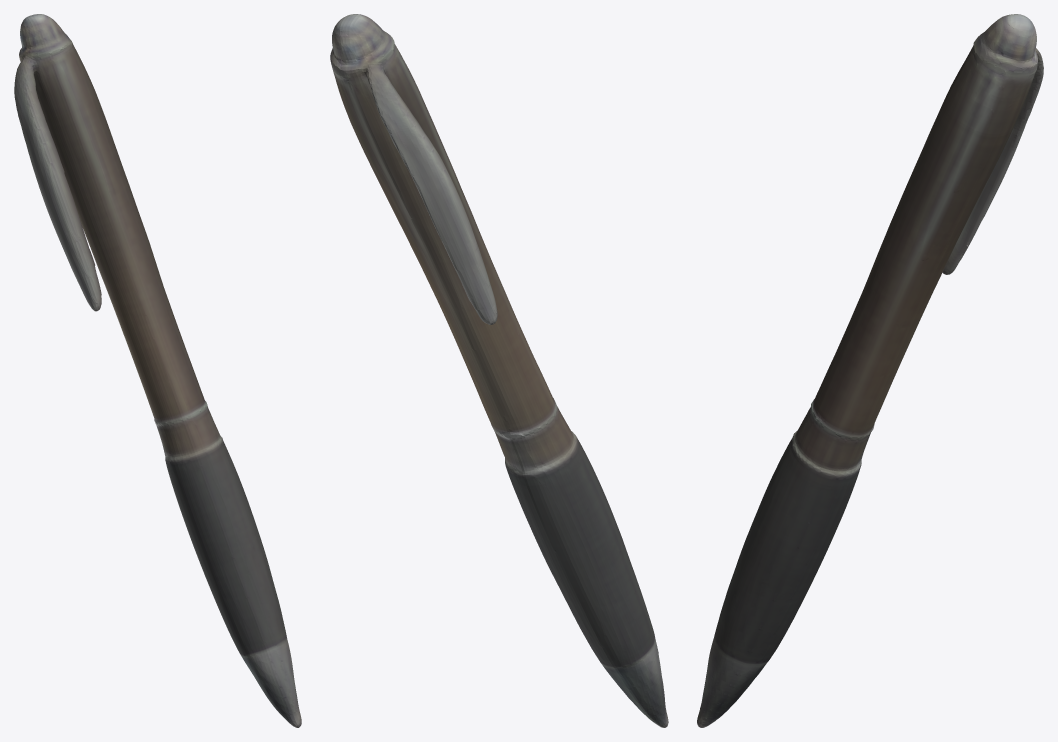
File: frame_0003_source_000003_object.glb
3 renders of one model, left to right at view 1: azimuth 90°, elevation 25°; view 2: azimuth 150°, elevation 25°; view 3: azimuth 270°, elevation 25°, orthographic. The views are drawn at different scales.
Visible parts, largest first — view 1: world; view 2: world; view 3: world.
Boxes of the visible parts, x1,y1,x2,y2 form: world: [14, 14, 301, 727]; world: [330, 14, 668, 727]; world: [697, 14, 1043, 727].
Size of the model in its own units: 0.0437 by 0.1772 by 0.0709.
